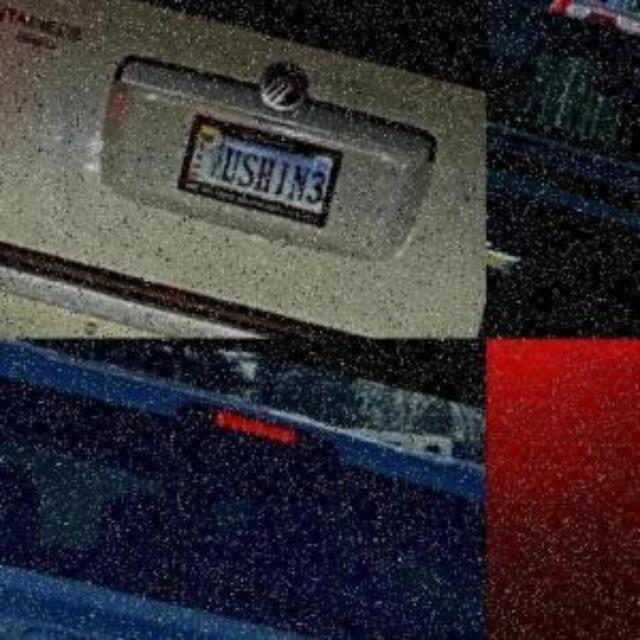License Plate: (178, 106, 347, 220)
